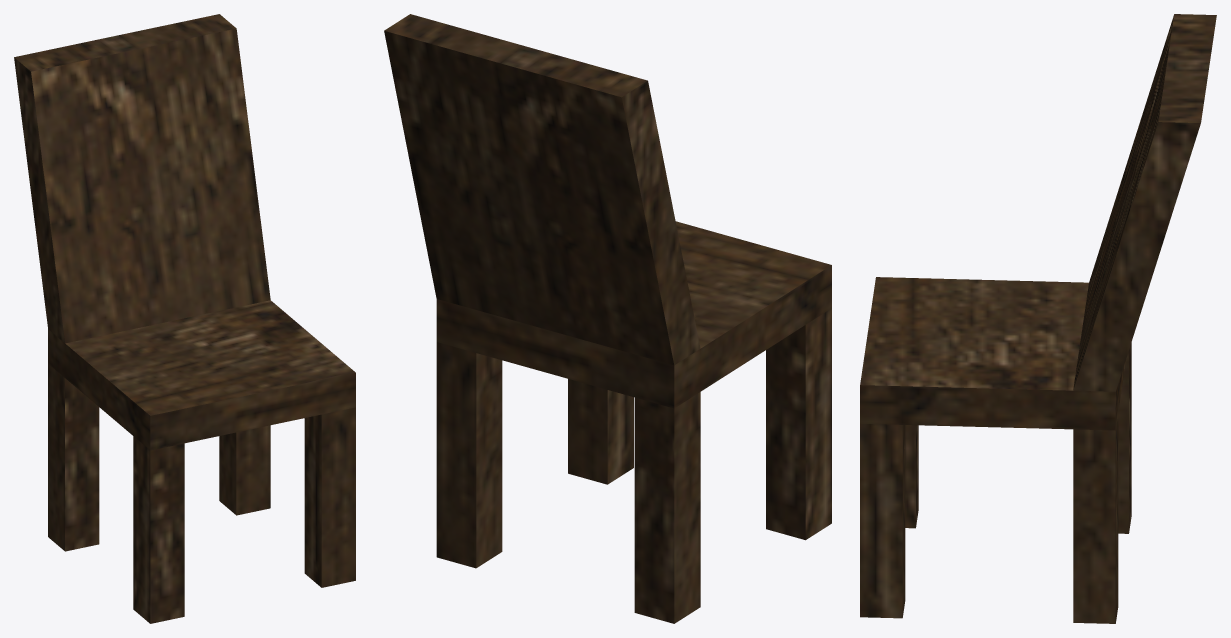
Rendered from chair1.obj.
3 views of the same model, side by side, from view 1: azimuth 30°, elevation 25°; view 2: azimuth 150°, elevation 25°; view 3: azimuth 270°, elevation 25° (orthographic). The views are drawn at different scales.
Visible parts, largest first — view 1: Brush2, Brush3, Brush6, Brush1, Brush4, Brush5; view 2: Brush2, Brush3, Brush4, Brush5, Brush6, Brush1; view 3: Brush3, Brush2, Brush5, Brush1, Brush4, Brush6.
Boxes of the visible parts, left/top/right/bottom form: Brush2: left=14, top=14, right=270, bottom=343; Brush3: left=48, top=300, right=355, bottom=450; Brush6: left=133, top=436, right=184, bottom=623; Brush1: left=304, top=407, right=355, bottom=587; Brush4: left=48, top=364, right=99, bottom=551; Brush5: left=219, top=425, right=270, bottom=515; Brush2: left=384, top=14, right=700, bottom=365; Brush3: left=436, top=221, right=831, bottom=408; Brush4: left=634, top=392, right=700, bottom=623; Brush5: left=436, top=342, right=502, bottom=568; Brush6: left=766, top=308, right=831, bottom=540; Brush1: left=568, top=379, right=633, bottom=484; Brush3: left=860, top=277, right=1126, bottom=430; Brush2: left=1073, top=14, right=1216, bottom=391; Brush5: left=1073, top=414, right=1118, bottom=623; Brush1: left=860, top=423, right=905, bottom=618; Brush4: left=1118, top=342, right=1131, bottom=533; Brush6: left=905, top=425, right=918, bottom=528.
Bounding box in the file's own units: 25.94 × 52 × 33.43.
